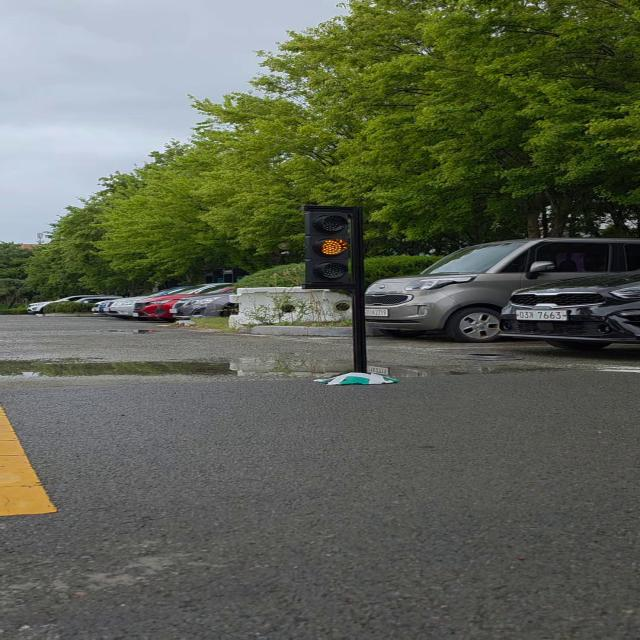yellow: (299, 204, 366, 288)
